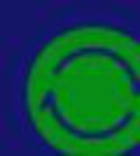ImgButton: (1, 1, 139, 155)
